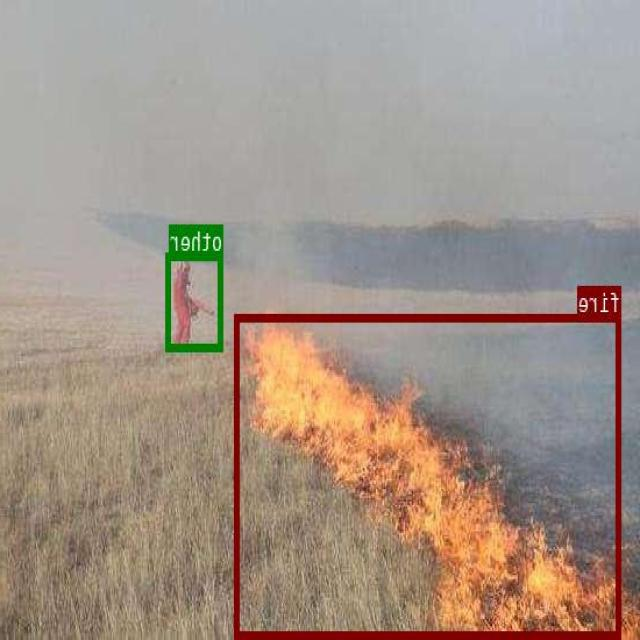fire: (236, 314, 623, 636)
other: (167, 251, 224, 350)
